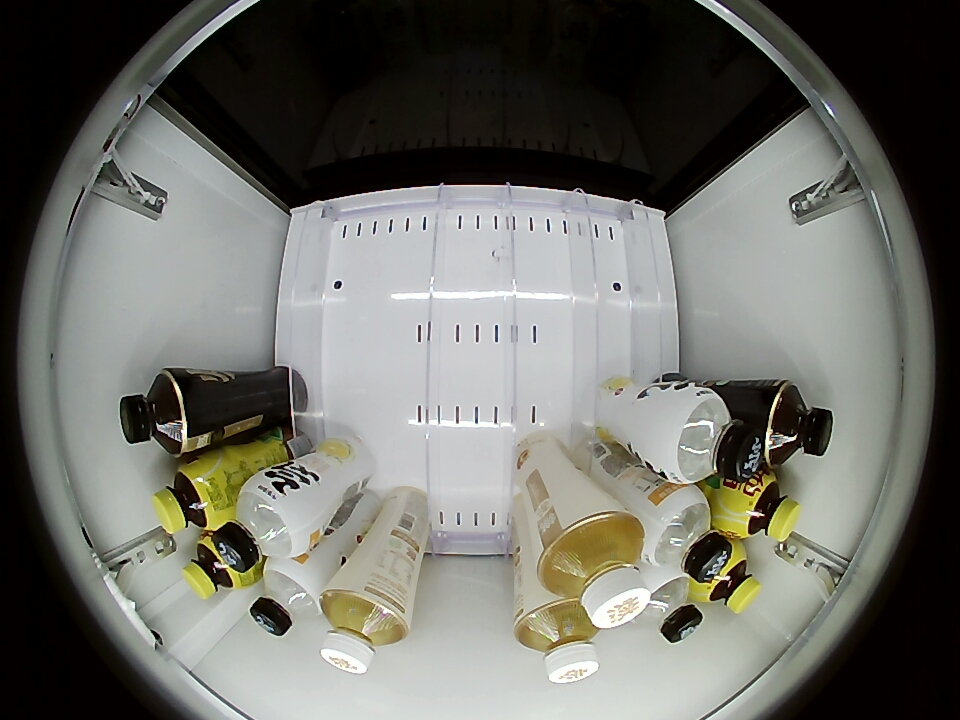rancha-1: (762, 382, 834, 467), (119, 370, 189, 455)
rancha-2: (534, 509, 650, 629), (321, 583, 409, 676), (515, 598, 600, 684)
weitaningmeng-bottle: (152, 458, 227, 535), (724, 471, 802, 543), (183, 533, 250, 599), (697, 546, 762, 614)
yuanqishui: (651, 384, 762, 484), (214, 476, 314, 569), (638, 484, 731, 582), (250, 558, 326, 637), (627, 569, 702, 643)
